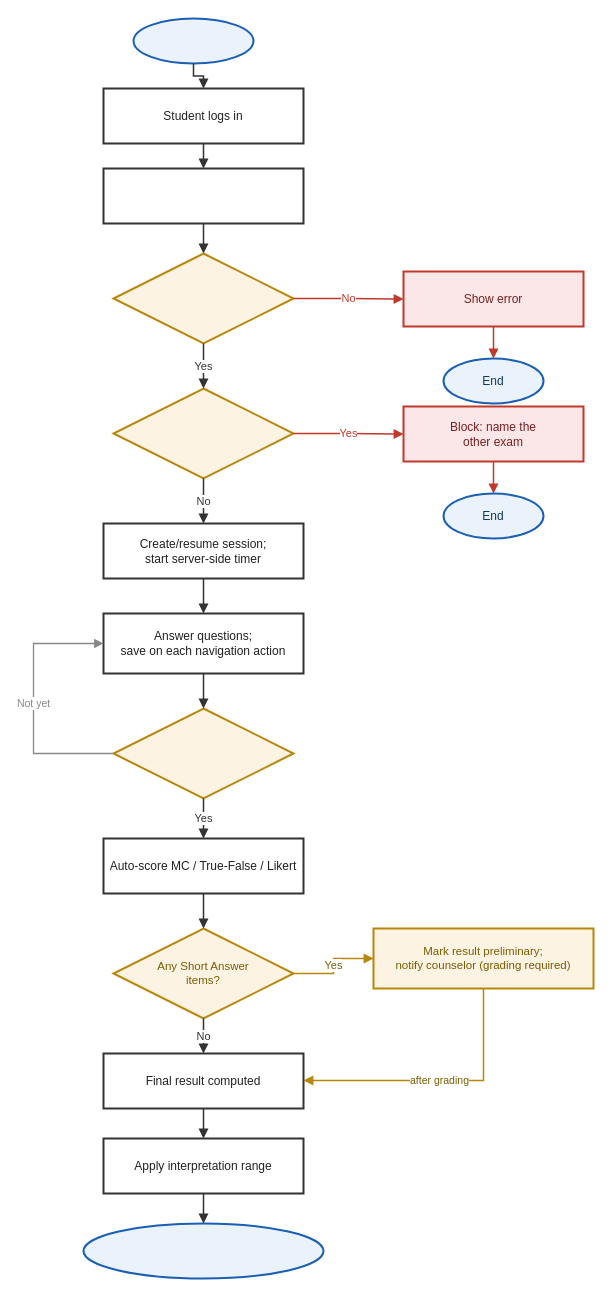
Image size: 612x1296. Some labels were removed from this diagram. The shapes that lost their labels are listed below. From the top down, each one's box as (x1, y1, x2, y2) in pixels, then its label:
(132, 17, 254, 64): Start
(102, 167, 304, 224): Enter access code
(112, 252, 294, 344): Exam published & within window?
(112, 387, 294, 479): Another exam already active?
(112, 707, 294, 799): Time expired OR student submits?
(82, 1222, 324, 1279): End — Student views result / My Results
